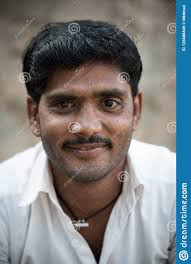Indian_Male: (25, 48, 138, 180)
